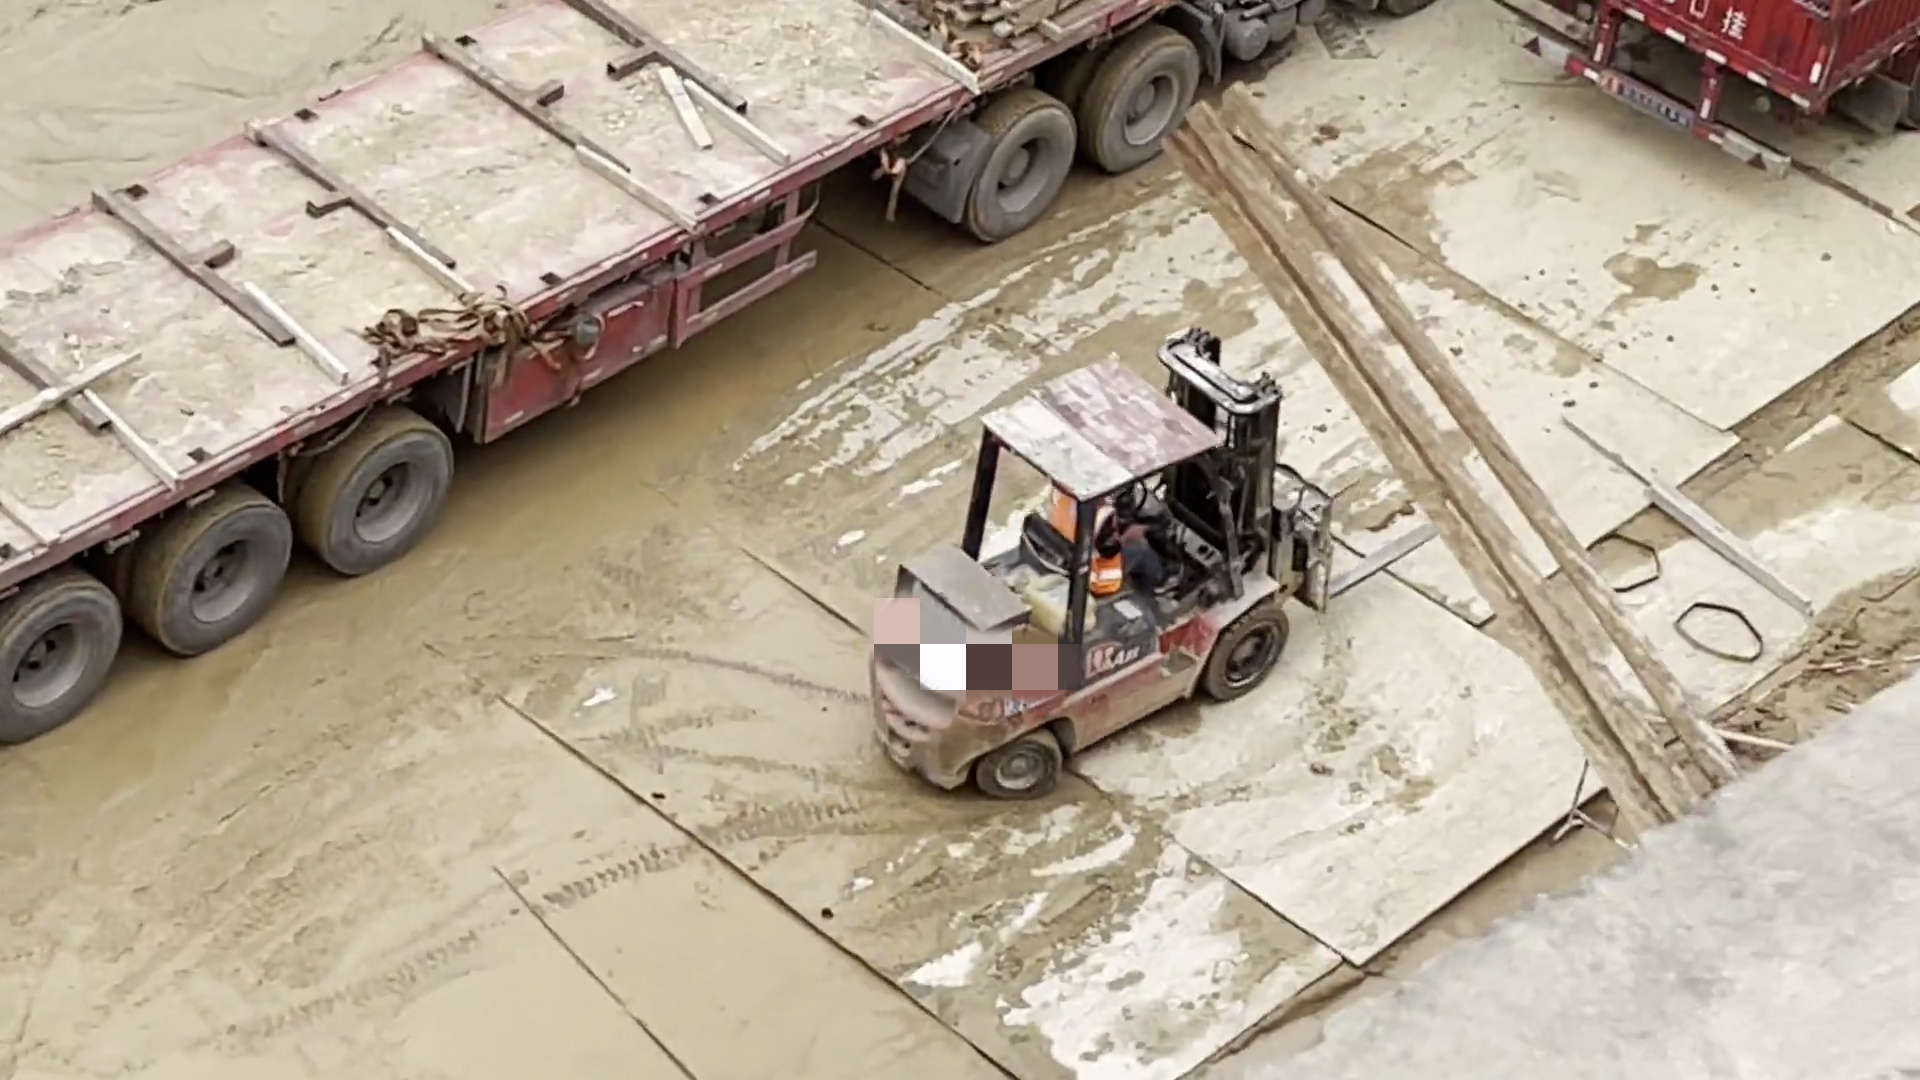person: (1047, 471, 1215, 664)
vest: (1052, 487, 1120, 599)
